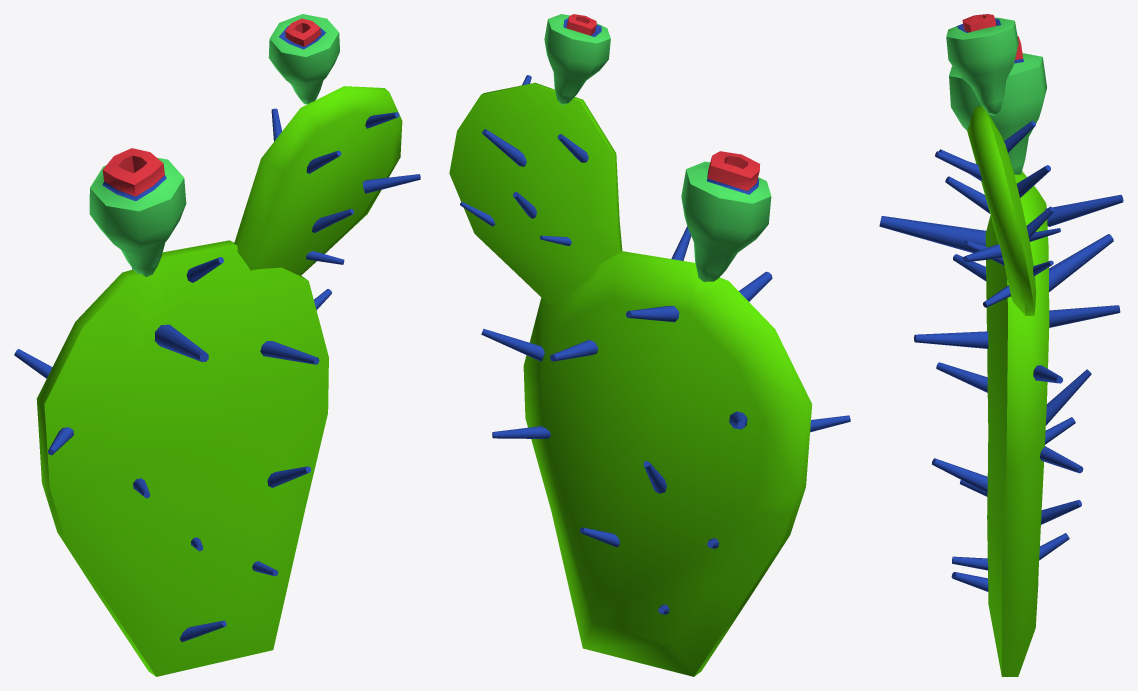
File: cactus_and_fruits.fbx
3 views of the same model, side by side, from view 1: azimuth 30°, elevation 25°; view 2: azimuth 150°, elevation 25°; view 3: azimuth 270°, elevation 25° (orthographic). The views are drawn at different scales.
Parts seen in each view (by area): view 1: cactus_with_fruits; view 2: cactus_with_fruits; view 3: cactus_with_fruits.
Boxes of the visible parts, left/top/right/bottom form: cactus_with_fruits: left=14, top=14, right=420, bottom=676; cactus_with_fruits: left=449, top=14, right=850, bottom=676; cactus_with_fruits: left=879, top=14, right=1123, bottom=676.
Bounding box in the file's own units: 42.1 × 66.44 × 21.9.
